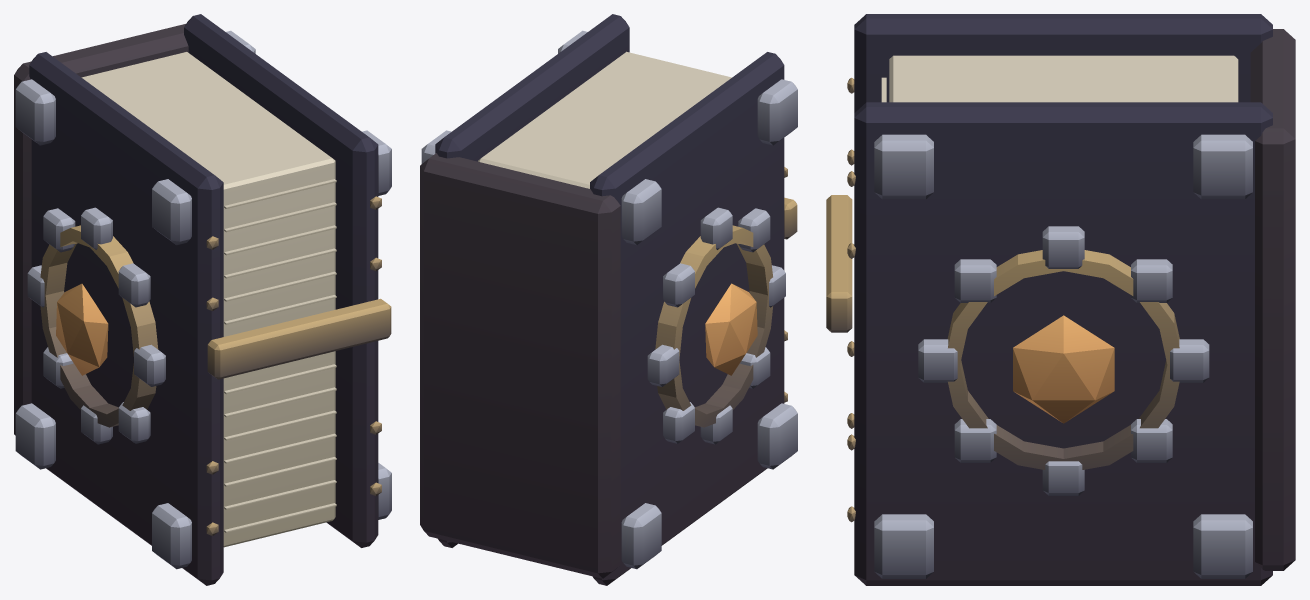
Rendered from grimorio_relicario_estelar.glb.
The picture shows the model from 3 angles, left to right: view 1: azimuth 30°, elevation 25°; view 2: azimuth 150°, elevation 25°; view 3: azimuth 270°, elevation 25°; orthographic projection. The views are drawn at different scales.
Visible parts, largest first — view 1: grimorio_relicario_estelar_finished; view 2: grimorio_relicario_estelar_finished; view 3: grimorio_relicario_estelar_finished.
Boxes of the visible parts, bbox=[...] form: grimorio_relicario_estelar_finished: bbox=[14, 14, 391, 585]; grimorio_relicario_estelar_finished: bbox=[420, 14, 797, 585]; grimorio_relicario_estelar_finished: bbox=[826, 14, 1295, 585].
Bounding box in the file's own units: 0.3694 × 0.53 × 0.4705.
2 materials, 2 textured.
